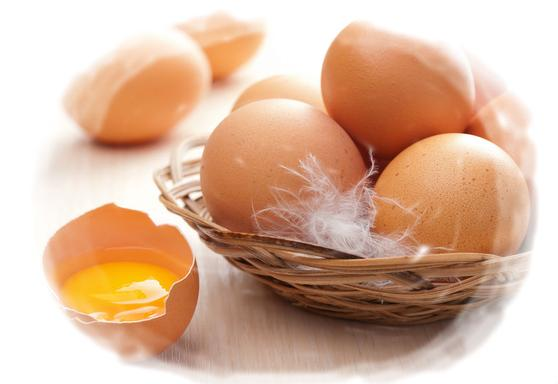egg: (374, 131, 527, 261)
